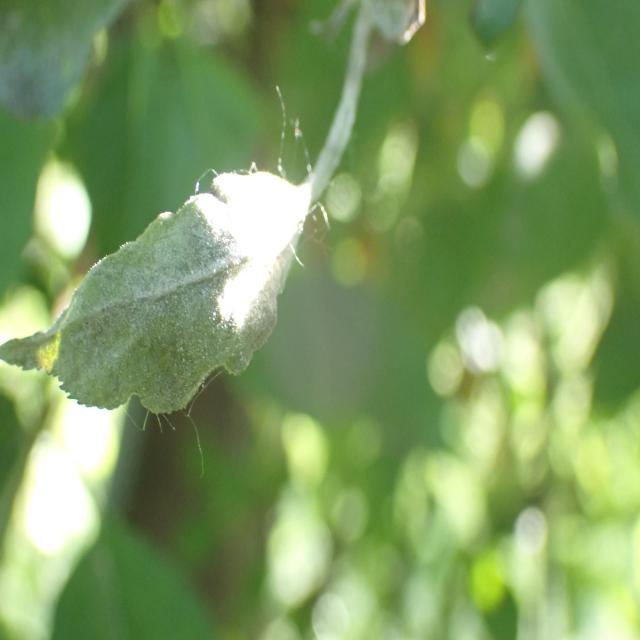Powdery_mildew: (14, 146, 372, 443)
